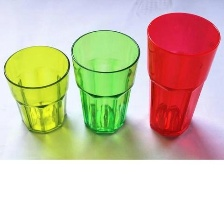glass: (135, 7, 224, 143), (67, 21, 145, 138), (0, 38, 76, 138)
